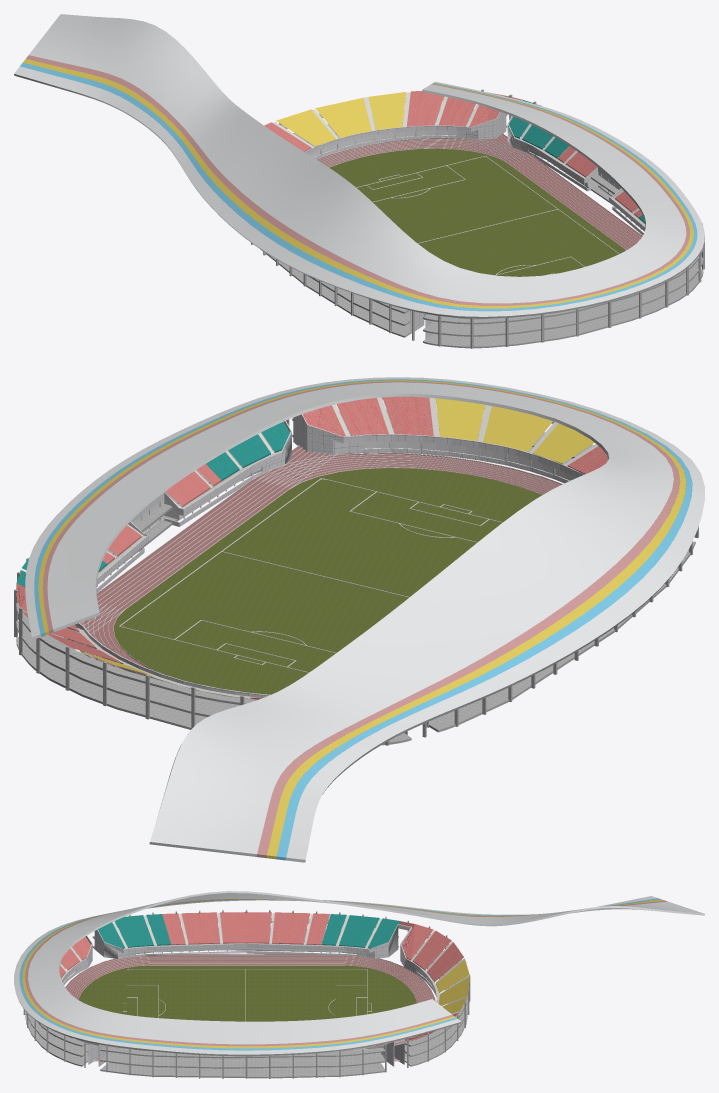
File: 5_tiyuzhongxin.glb
The picture shows the model from 3 angles, top to bottom: view 1: azimuth 30°, elevation 25°; view 2: azimuth 150°, elevation 25°; view 3: azimuth 270°, elevation 25°; orthographic projection. The views are drawn at different scales.
Parts seen in each view (by area): view 1: Rectangle002, Obj3d66-1099625-180-878, Group008, Group007, Shape018, Obj3d66-1099625-179-341, Obj3d66-1099625-178-873, Shape015; view 2: Rectangle002, Obj3d66-1099625-180-878, Group008, Group007, Obj3d66-1099625-179-341, Shape018, Obj3d66-1099625-178-873, Shape015; view 3: Rectangle002, Group008, Obj3d66-1099625-180-878, Shape018, Obj3d66-1099625-179-341, Group007, Obj3d66-1099625-178-873, Shape015.
Boxes of the visible parts, x1,y1,x2,y2 form: Rectangle002: (14, 14, 704, 318); Obj3d66-1099625-180-878: (329, 148, 625, 276); Group008: (264, 91, 645, 338); Group007: (20, 55, 697, 311); Shape018: (260, 96, 703, 348); Obj3d66-1099625-179-341: (317, 133, 642, 319); Obj3d66-1099625-178-873: (316, 133, 642, 315); Shape015: (251, 89, 704, 348); Rectangle002: (25, 377, 704, 862); Obj3d66-1099625-180-878: (113, 468, 541, 694); Group008: (16, 396, 607, 734); Group007: (34, 379, 692, 860); Obj3d66-1099625-179-341: (64, 445, 561, 671); Shape018: (16, 397, 695, 745); Obj3d66-1099625-178-873: (66, 445, 562, 673); Shape015: (14, 419, 698, 745); Rectangle002: (14, 891, 704, 1056); Group008: (59, 912, 470, 1066); Obj3d66-1099625-180-878: (78, 965, 416, 1048); Shape018: (25, 917, 469, 1078); Obj3d66-1099625-179-341: (65, 954, 435, 1061); Group007: (19, 898, 667, 1050); Obj3d66-1099625-178-873: (65, 954, 435, 1060); Shape015: (23, 910, 470, 1078).
Bounding box in the file's own units: 195 × 39.86 × 359.
Materials: 13 (6 with a texture image).
